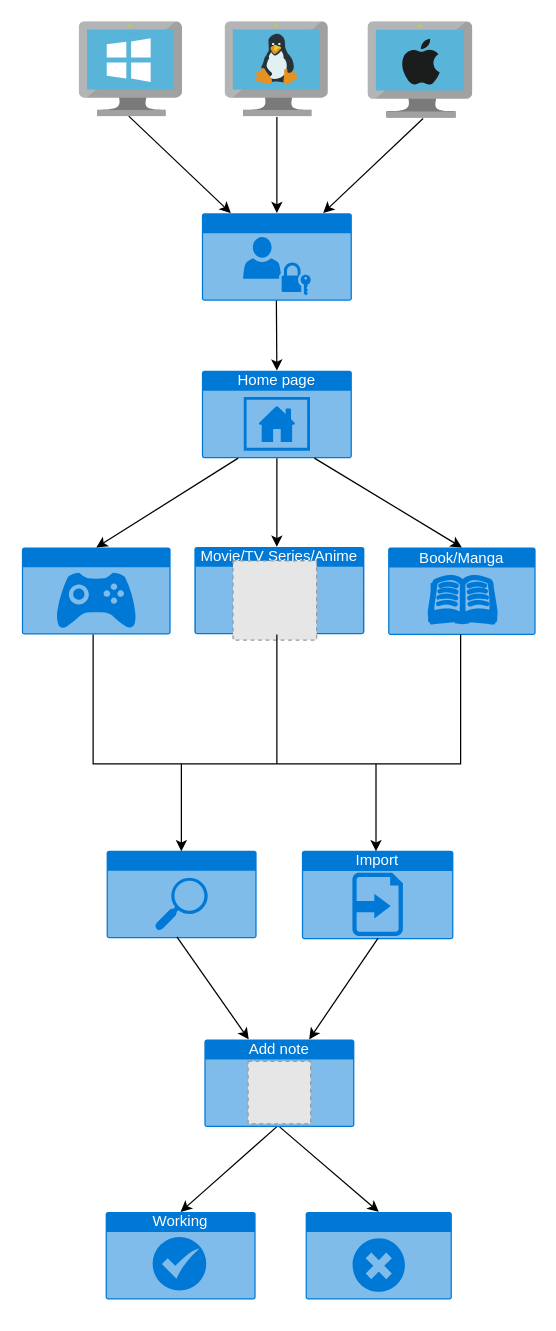
This 556x1331 diagram has some shape labels left out. Grey dashed boxes stand in for pictures. The centre of each missing label's shape, as x and y in pixels:
Error: point (378, 1255)
Game: point (95, 590)
Login: point (276, 256)
Search: point (181, 894)
